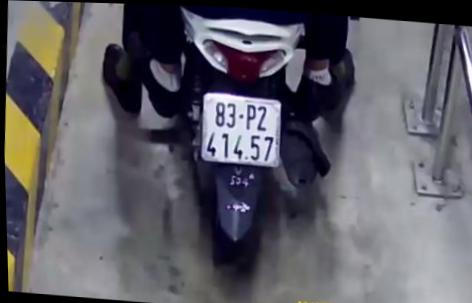LP: (193, 84, 285, 171)
